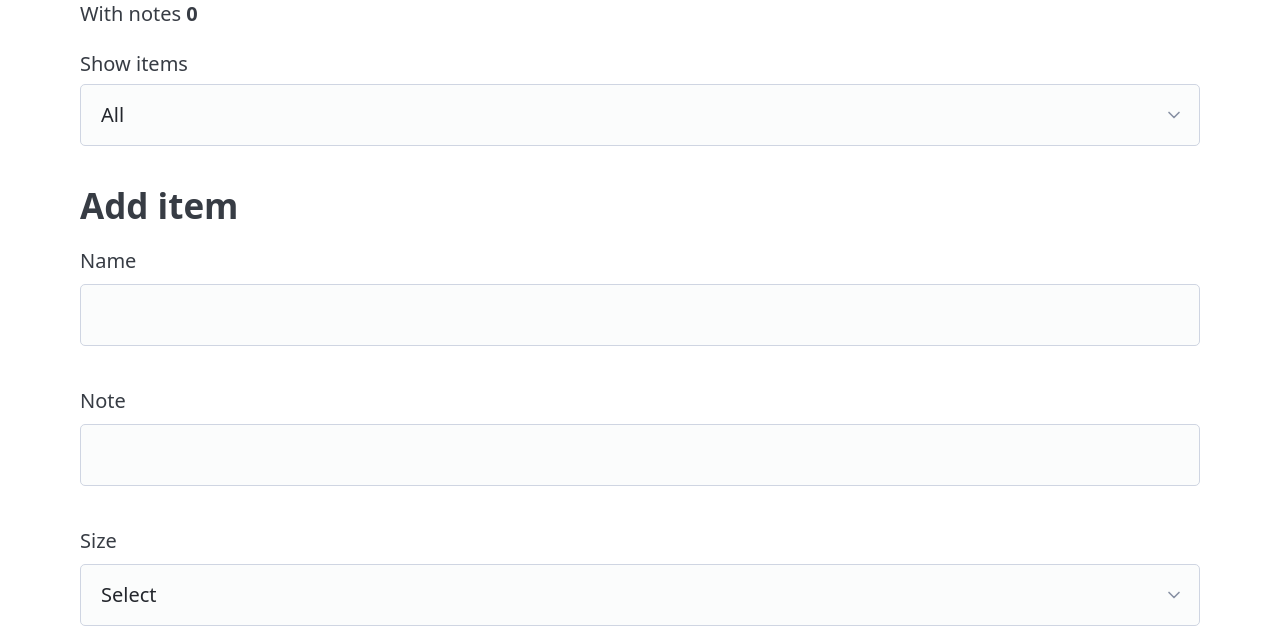
Test: journey helpers › removes a record and undoes it
Type "Lamp" into the field labelled "Name" at (640, 315), box [80,284,1200,346]
(page scrolled)
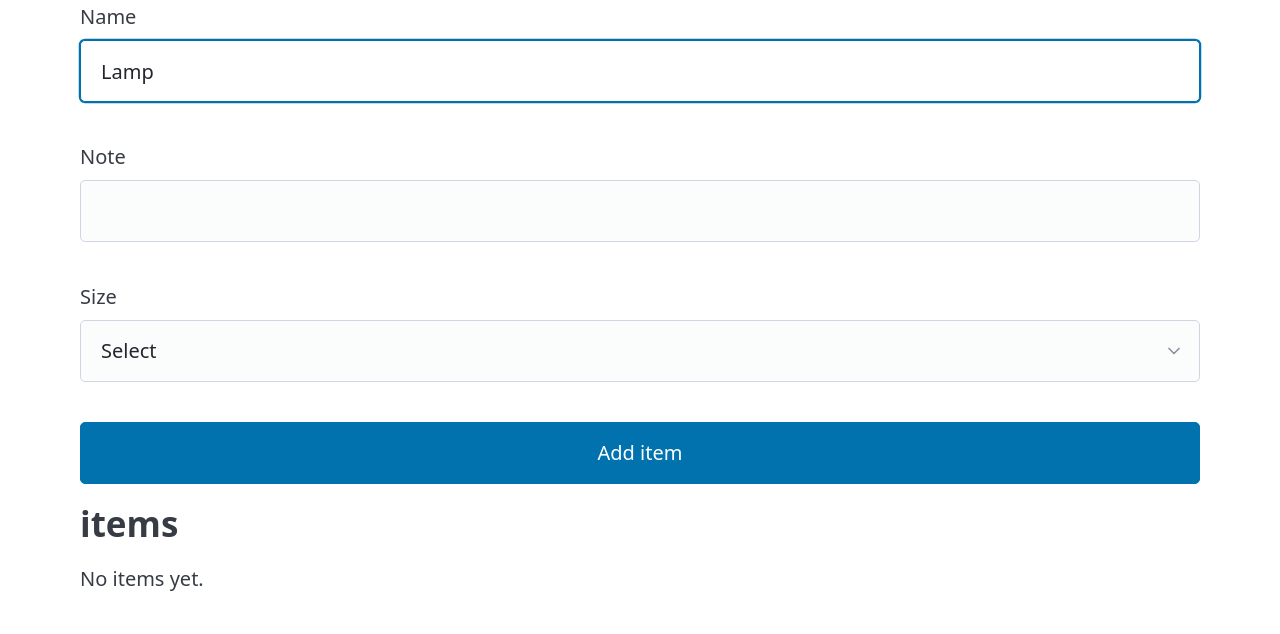
Click the button "Add item" at (640, 453), box [80,422,1200,484]
(page scrolled)
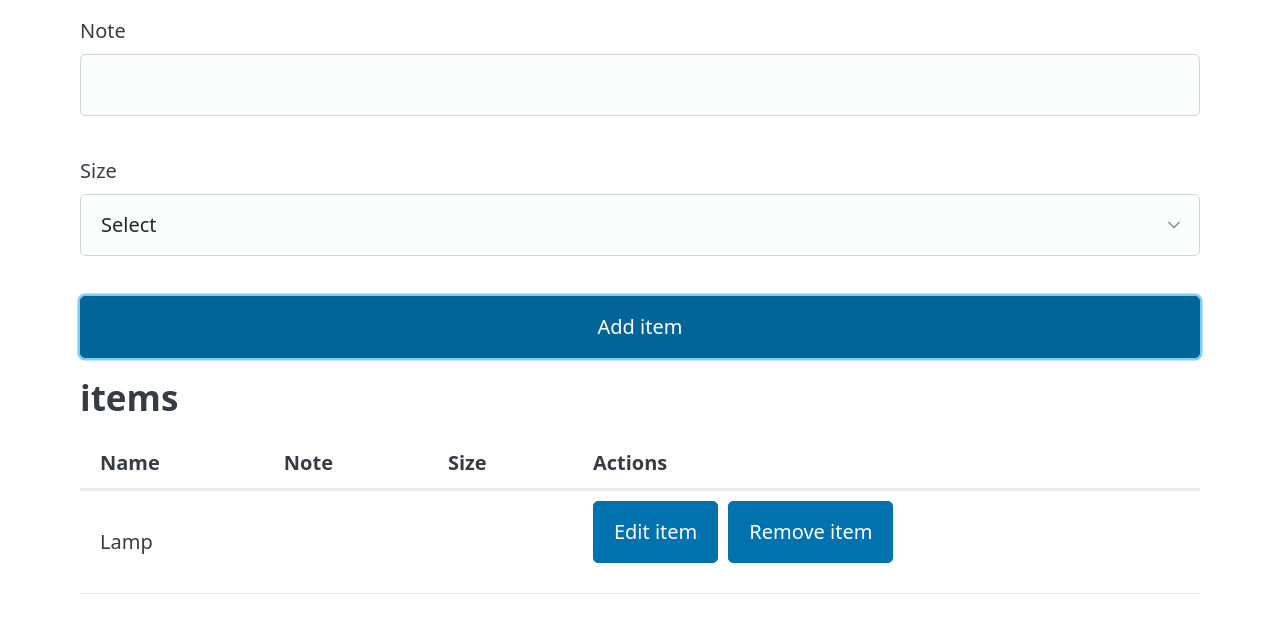
Click the button "Remove item" at (811, 532), box [728,501,893,563]
(page scrolled)
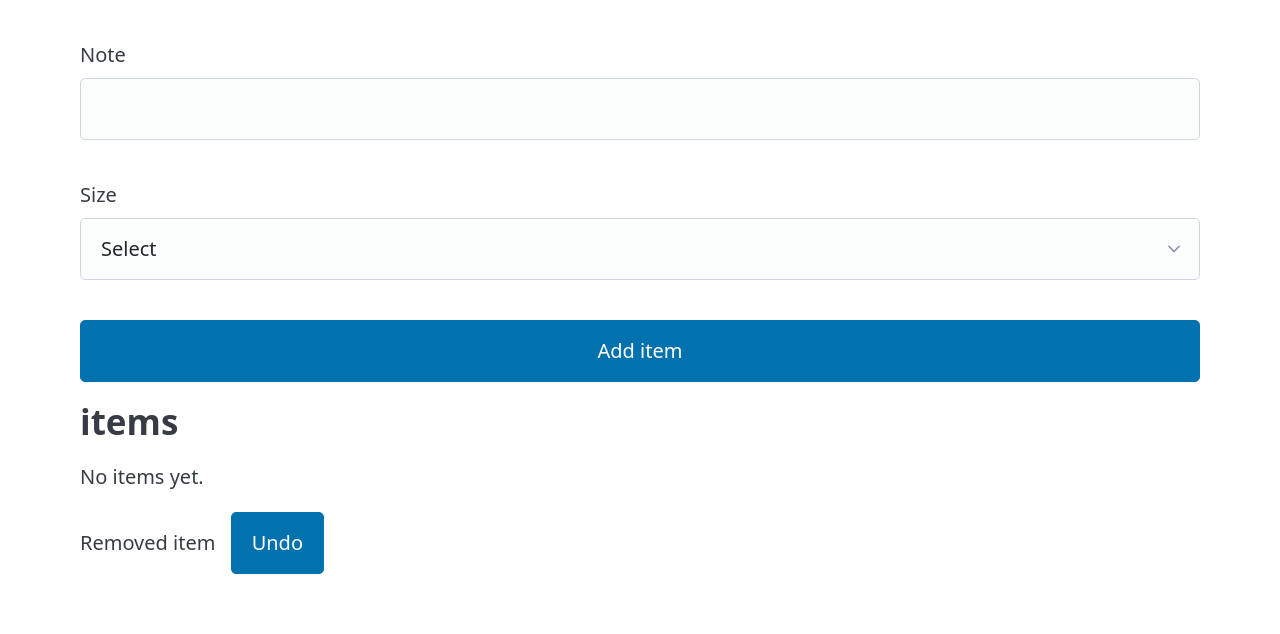
Expected: the table is gone
Click the button "Undo" at (277, 543), box [231,512,324,574]
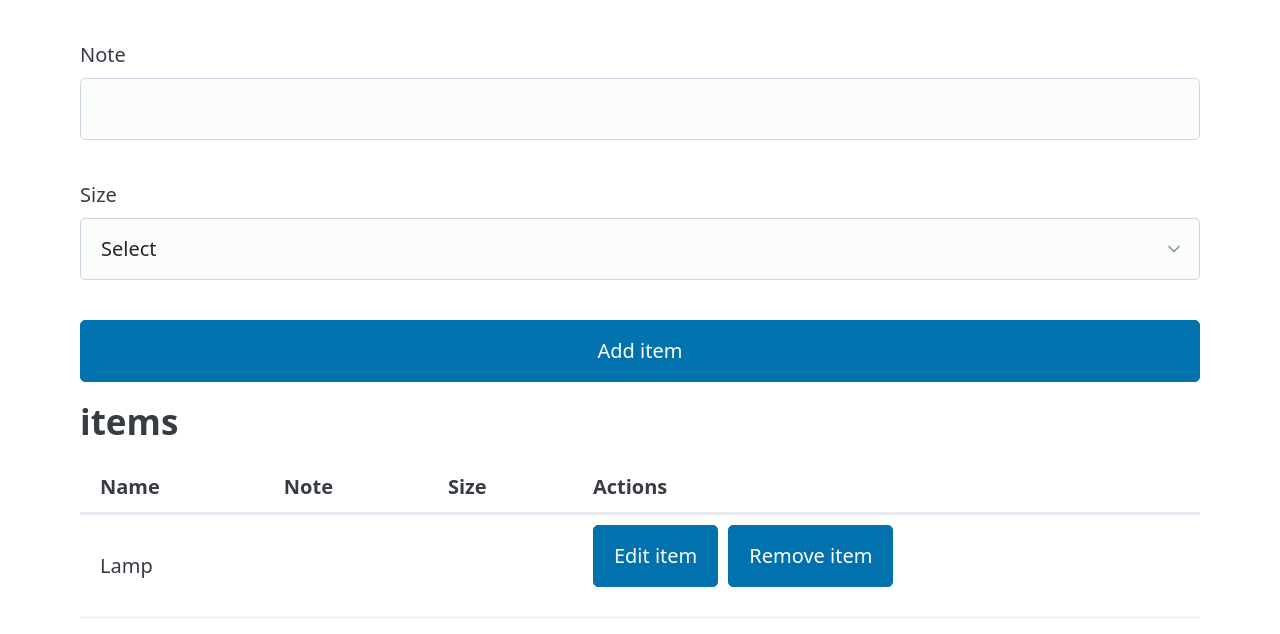
Expected: the row "Lamp Edit item Remove item" is shown, [80,514,1200,618]
